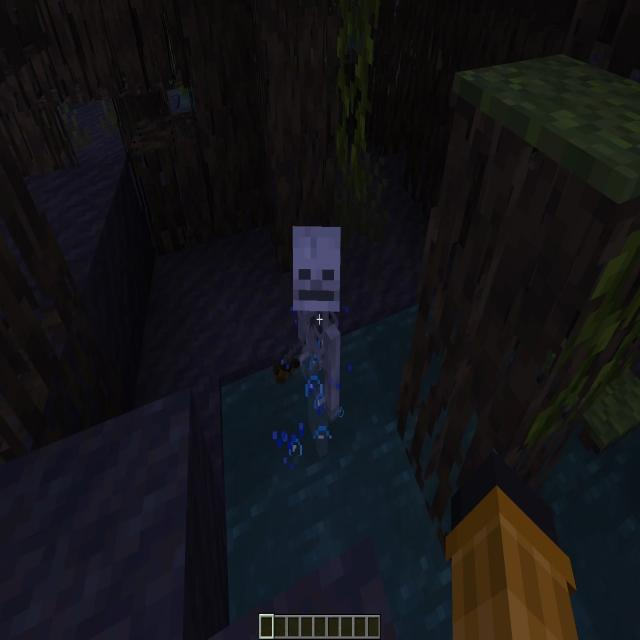Skeleton: (288, 226, 338, 458)
